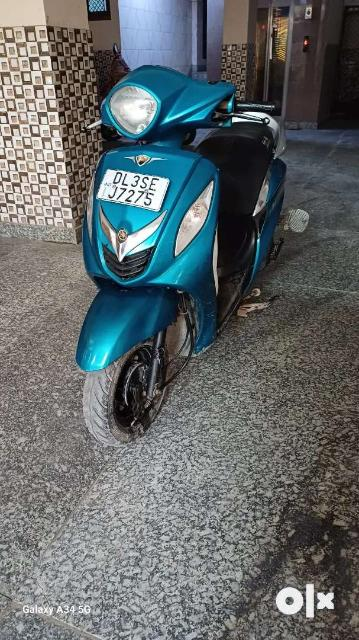Indian_Number_Plate: (97, 168, 169, 211)
